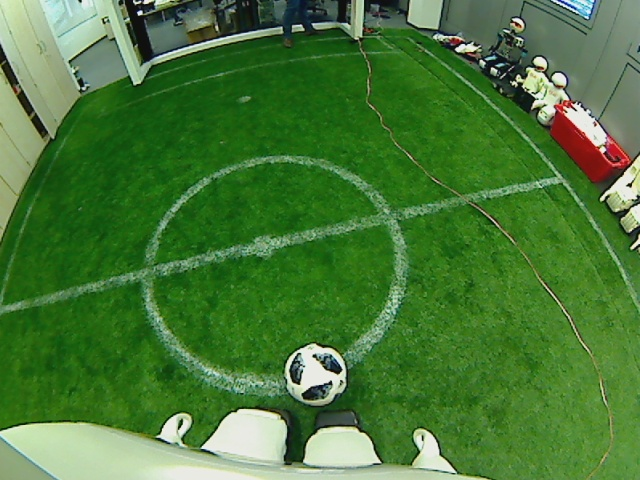ball: (283, 343, 348, 404)
